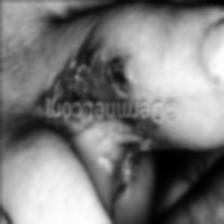Toxin: (96, 145, 138, 202), (105, 51, 137, 100), (56, 66, 72, 92)
